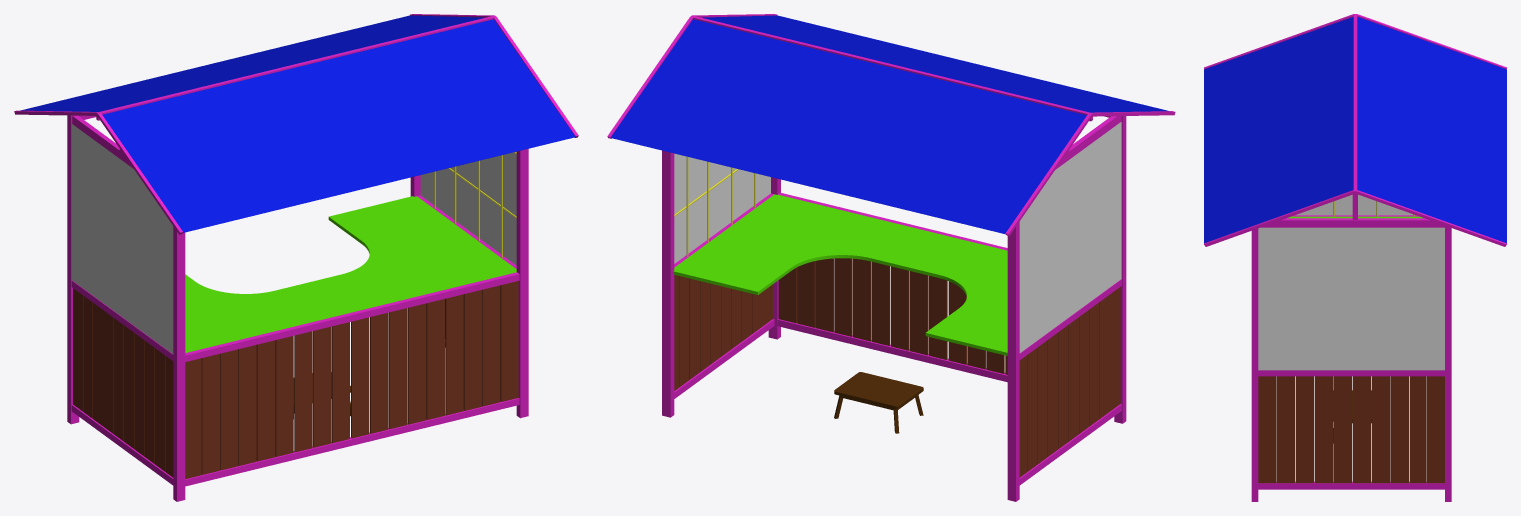
File: Yatai and Stool.fbx
3 views of the same model, side by side, from view 1: azimuth 30°, elevation 25°; view 2: azimuth 150°, elevation 25°; view 3: azimuth 270°, elevation 25° (orthographic). The views are drawn at different scales.
Visible parts, largest first — view 1: Yatai.001; view 2: Yatai.001, Cube; view 3: Yatai.001.
Boxes of the visible parts, x1,y1,x2,y2 form: Yatai.001: (14,14,578,501); Yatai.001: (607,14,1175,501); Cube: (834,372,923,433); Yatai.001: (1204,14,1506,501).
Bounding box in the file's own units: 260 × 220 × 188.
